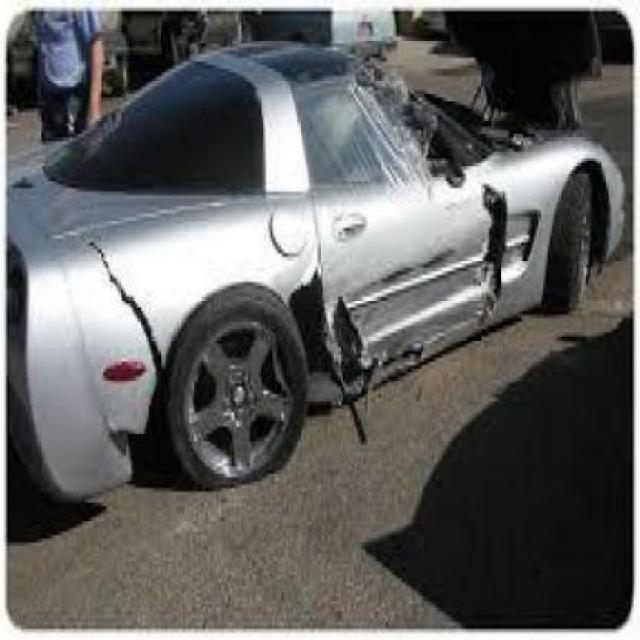damage: (79, 43, 515, 484)
